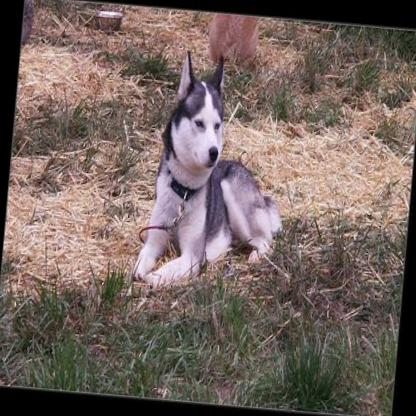malamute: (132, 48, 298, 302)
